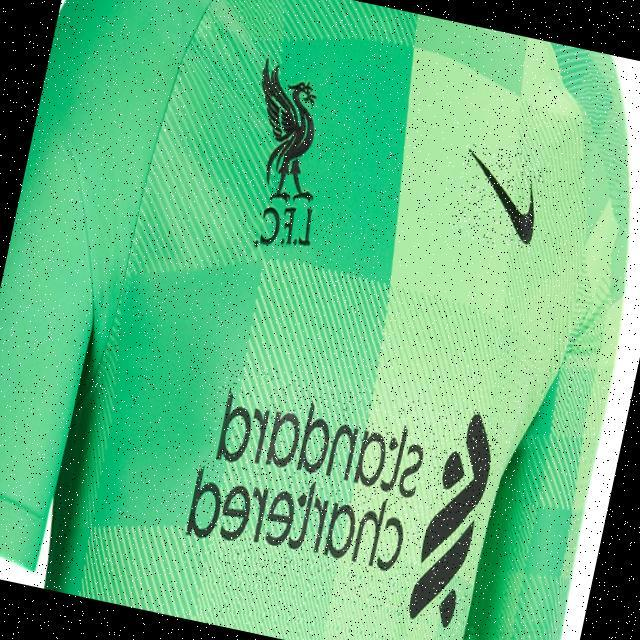Nike: (448, 143, 550, 252)
Standard Chartered: (178, 356, 504, 625)
